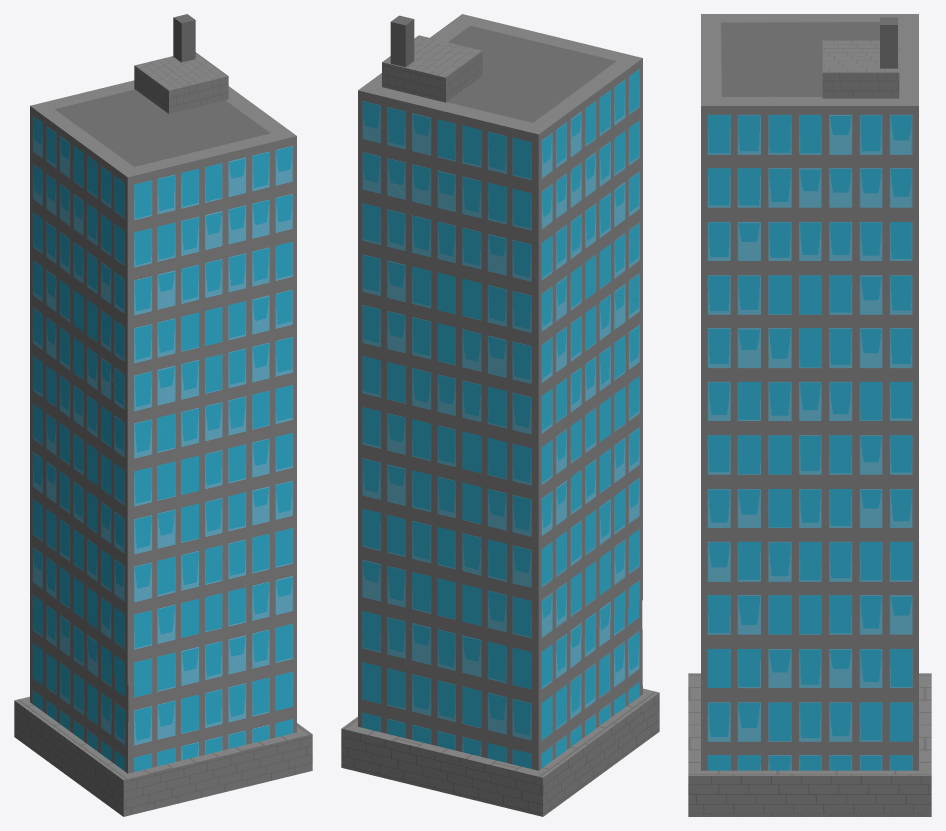
The model's file is SkyScratcher2_destructable.fbx.
3 renders of one model, left to right at view 1: azimuth 30°, elevation 25°; view 2: azimuth 150°, elevation 25°; view 3: azimuth 270°, elevation 25°, orthographic. The views are drawn at different scales.
Visible parts, largest first — view 1: SkyScratcher1.001_cell.019, SkyScratcher1.001_cell.025, SkyScratcher2_destructable, SkyScratcher1.001_cell.021, SkyScratcher1.001_cell.018, SkyScratcher1.001_cell.024, SkyScratcher1.001_cell.017; view 2: SkyScratcher2_destructable, SkyScratcher1.001_cell.026, SkyScratcher1.001_cell.017, SkyScratcher1.001_cell.019, SkyScratcher1.001_cell.018, SkyScratcher1.001_cell.028, SkyScratcher1.001_cell.024, SkyScratcher1.001_cell.023, SkyScratcher1.001_cell.021; view 3: SkyScratcher1.001_cell.019, SkyScratcher1.001_cell.021, SkyScratcher2_destructable, SkyScratcher1.001_cell.022, SkyScratcher1.001_cell.016, SkyScratcher1.001_cell.027, SkyScratcher1.001_cell.017.
Boxes of the visible parts, bbox=[...] form: SkyScratcher1.001_cell.019: bbox=[52, 14, 296, 352]; SkyScratcher1.001_cell.025: bbox=[127, 407, 296, 685]; SkyScratcher2_destructable: bbox=[14, 599, 312, 816]; SkyScratcher1.001_cell.021: bbox=[94, 273, 296, 517]; SkyScratcher1.001_cell.018: bbox=[30, 368, 127, 684]; SkyScratcher1.001_cell.024: bbox=[30, 233, 105, 491]; SkyScratcher1.001_cell.017: bbox=[30, 80, 134, 340]; SkyScratcher2_destructable: bbox=[341, 601, 659, 816]; SkyScratcher1.001_cell.026: bbox=[358, 319, 538, 637]; SkyScratcher1.001_cell.017: bbox=[366, 105, 582, 385]; SkyScratcher1.001_cell.019: bbox=[358, 14, 642, 245]; SkyScratcher1.001_cell.018: bbox=[538, 295, 642, 660]; SkyScratcher1.001_cell.028: bbox=[358, 143, 538, 424]; SkyScratcher1.001_cell.024: bbox=[538, 206, 619, 546]; SkyScratcher1.001_cell.023: bbox=[369, 547, 538, 660]; SkyScratcher1.001_cell.021: bbox=[607, 245, 642, 302]; SkyScratcher1.001_cell.019: bbox=[701, 14, 918, 258]; SkyScratcher1.001_cell.021: bbox=[701, 189, 895, 531]; SkyScratcher2_destructable: bbox=[688, 673, 931, 816]; SkyScratcher1.001_cell.022: bbox=[701, 499, 912, 691]; SkyScratcher1.001_cell.016: bbox=[764, 162, 918, 498]; SkyScratcher1.001_cell.027: bbox=[764, 450, 918, 677]; SkyScratcher1.001_cell.017: bbox=[870, 14, 918, 75].
Bounding box in the file's own units: 1.3 × 4.56 × 1.3.
